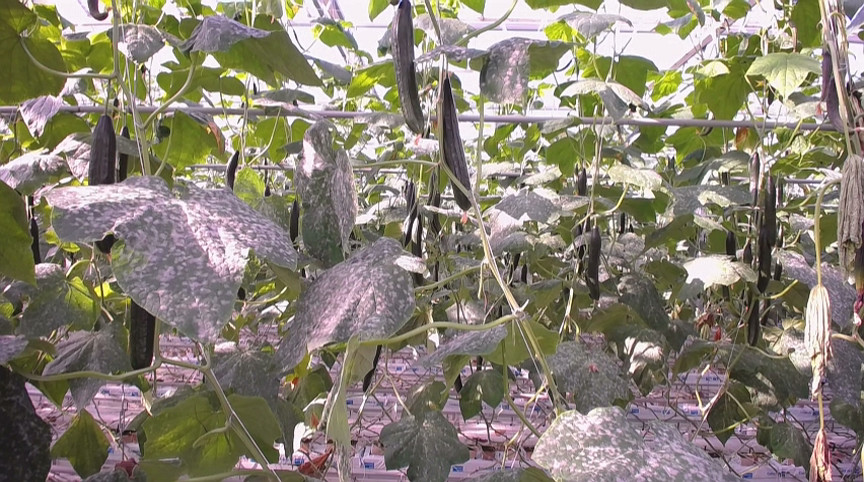cucumber: (441, 79, 476, 212), (391, 1, 424, 134), (89, 114, 113, 256), (129, 301, 156, 372), (588, 227, 602, 303), (764, 175, 778, 249), (414, 214, 424, 286), (225, 150, 239, 193)
